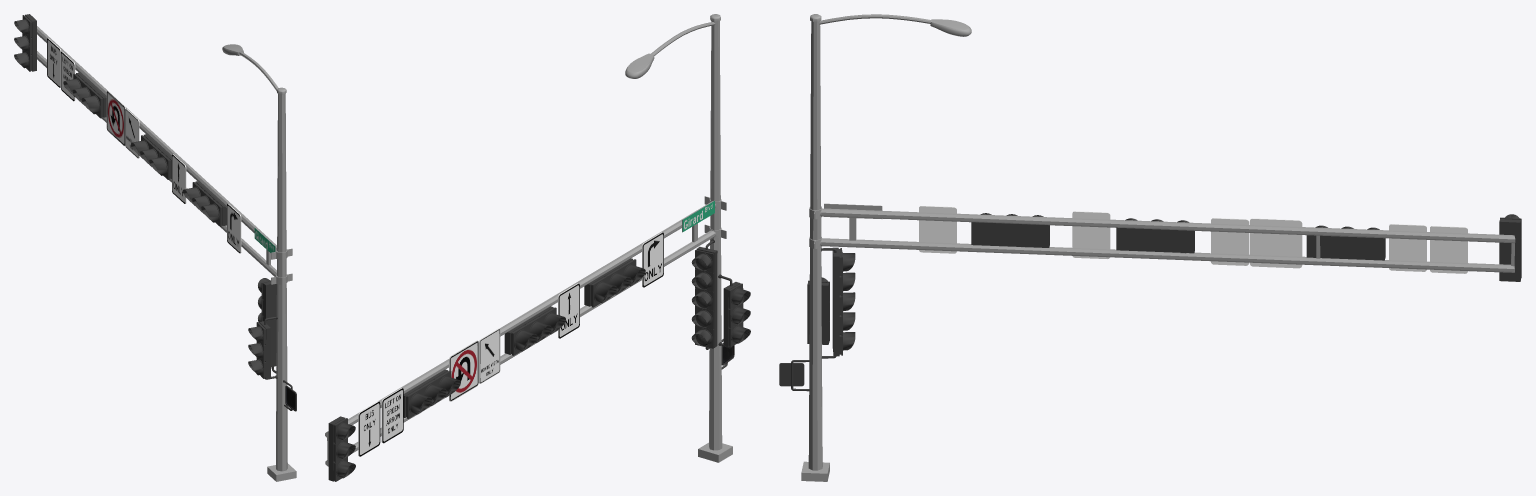
Rendered from Light3.fbx.
The picture shows the model from 3 angles, left to right: view 1: azimuth 30°, elevation 25°; view 2: azimuth 150°, elevation 25°; view 3: azimuth 270°, elevation 25°; orthographic projection. The views are drawn at different scales.
Visible parts, largest first — view 1: Traffic Lights.015; view 2: Traffic Lights.015; view 3: Traffic Lights.015.
Part boxes in pixels (x1,y1,x2,y2): Traffic Lights.015: (14,14,296,481); Traffic Lights.015: (325,14,750,481); Traffic Lights.015: (779,14,1521,481).
Bounding box in the file's own units: 233 × 1094 × 1588.
